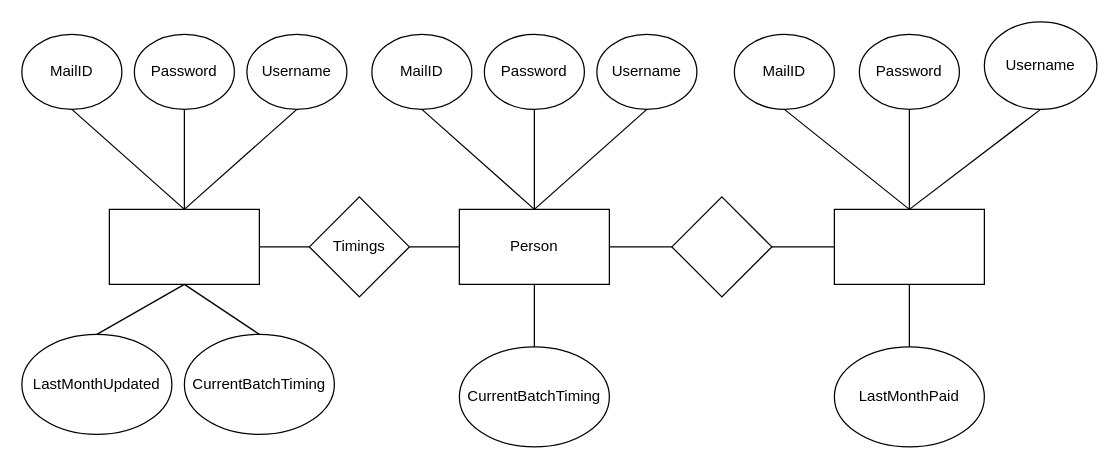
This 1119x469 diagram has some shape labels left out. Each missing label, with the centre of its shape:
"Batch_Details" belongs at pixel 183 246.
"Payment" belongs at pixel 721 246.
"Payment_Details" belongs at pixel 908 246.
